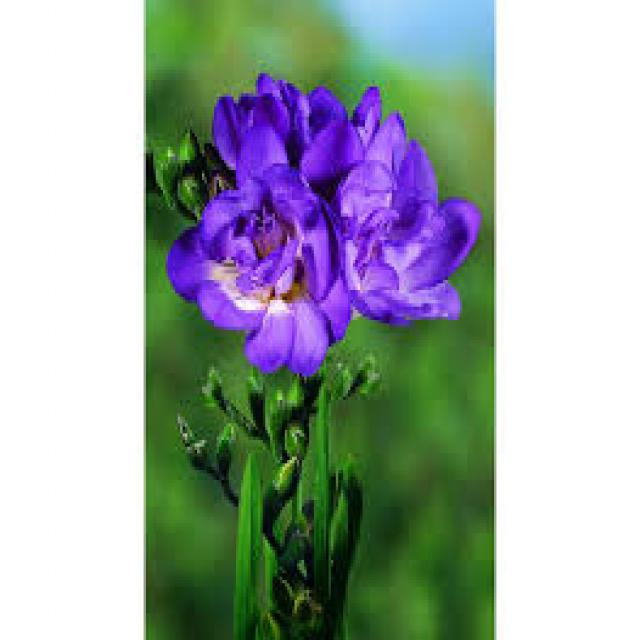freesia: (186, 85, 476, 387), (174, 148, 358, 378), (307, 113, 482, 334)
